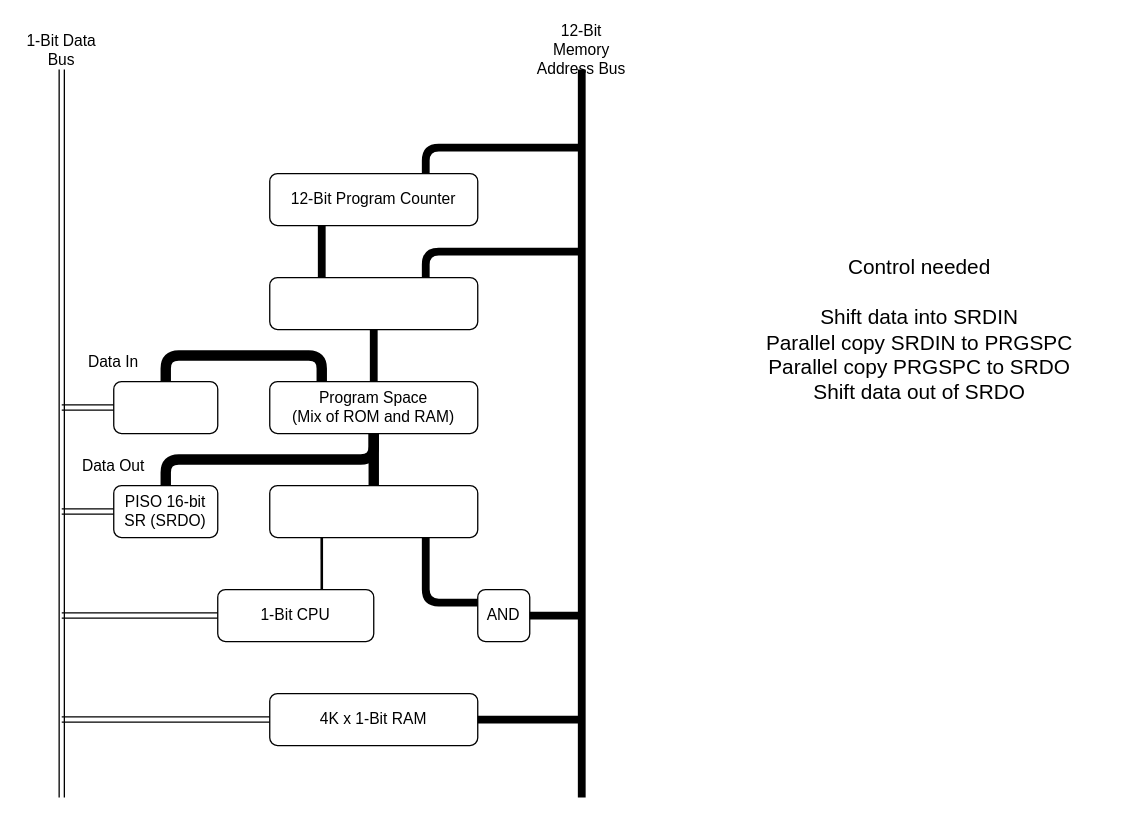
Some shapes in this 1123 by 826 pixel diagram are drawn without their labels. The centre of each missing label's shape, as x and y in pixels:
"16-bit Instruction Register" goes at [373,511].
"MUX" goes at [373,303].
"SIPO 16-bit SR (SRDIN)" goes at [165,407].
